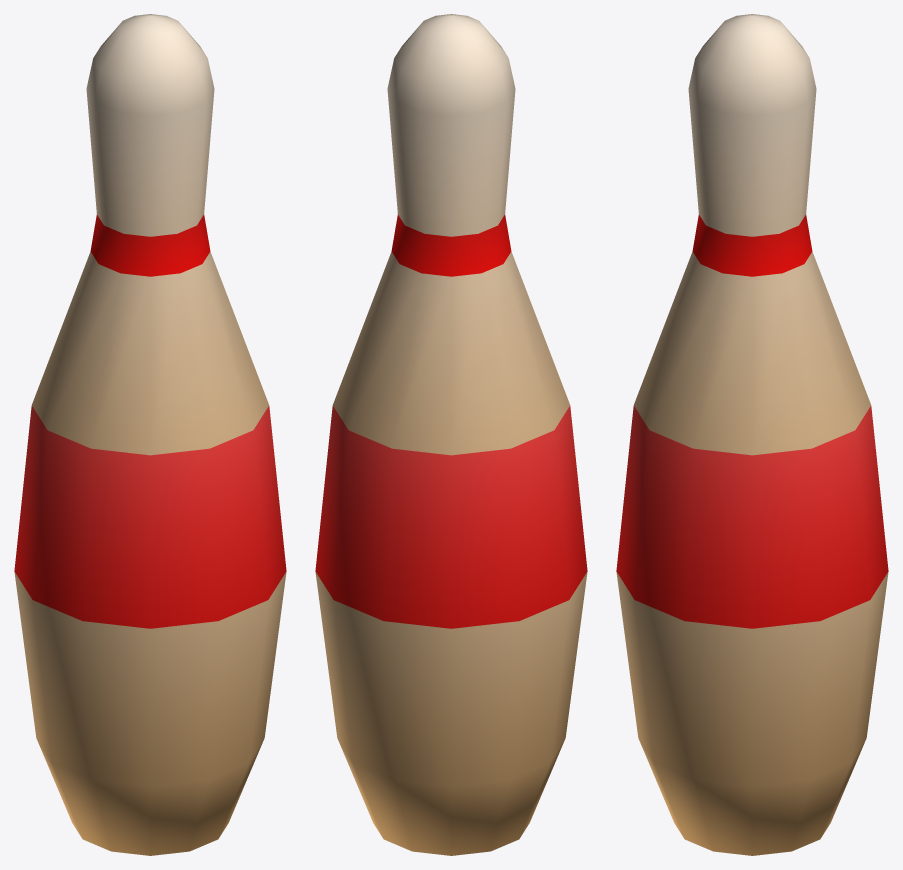
The model's file is Space_Keggle.FBX.
The picture shows the model from 3 angles, left to right: view 1: azimuth 30°, elevation 25°; view 2: azimuth 150°, elevation 25°; view 3: azimuth 270°, elevation 25°; orthographic projection.
Parts seen in each view (by area): view 1: Keggle; view 2: Keggle; view 3: Keggle.
Part boxes in pixels (bbox=[...]): Keggle: bbox=[14, 14, 286, 855]; Keggle: bbox=[315, 14, 587, 855]; Keggle: bbox=[616, 14, 888, 855].
Bounding box in the file's own units: 29.46 × 96.36 × 29.46.
